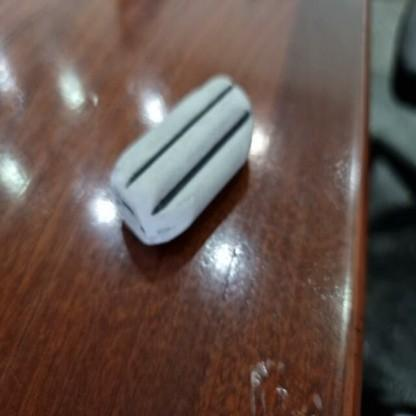not trash: (106, 75, 255, 244)
